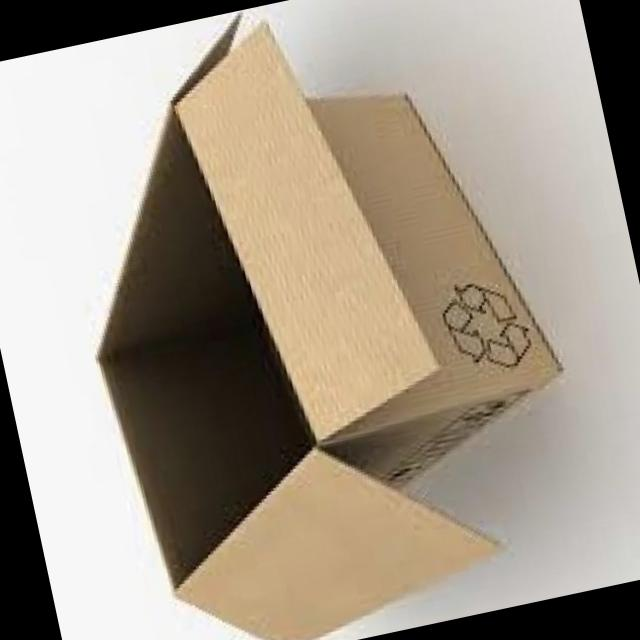cardboard paper: (95, 20, 556, 640)
